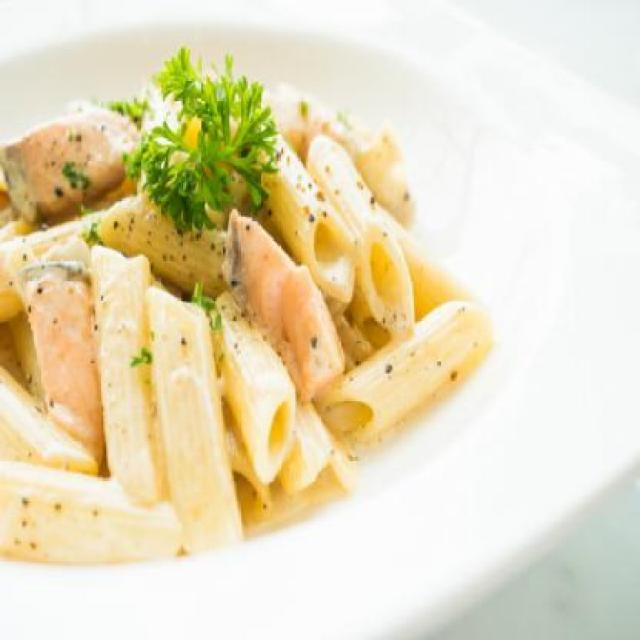Pasta with carbonara sauce: (12, 36, 470, 538)
